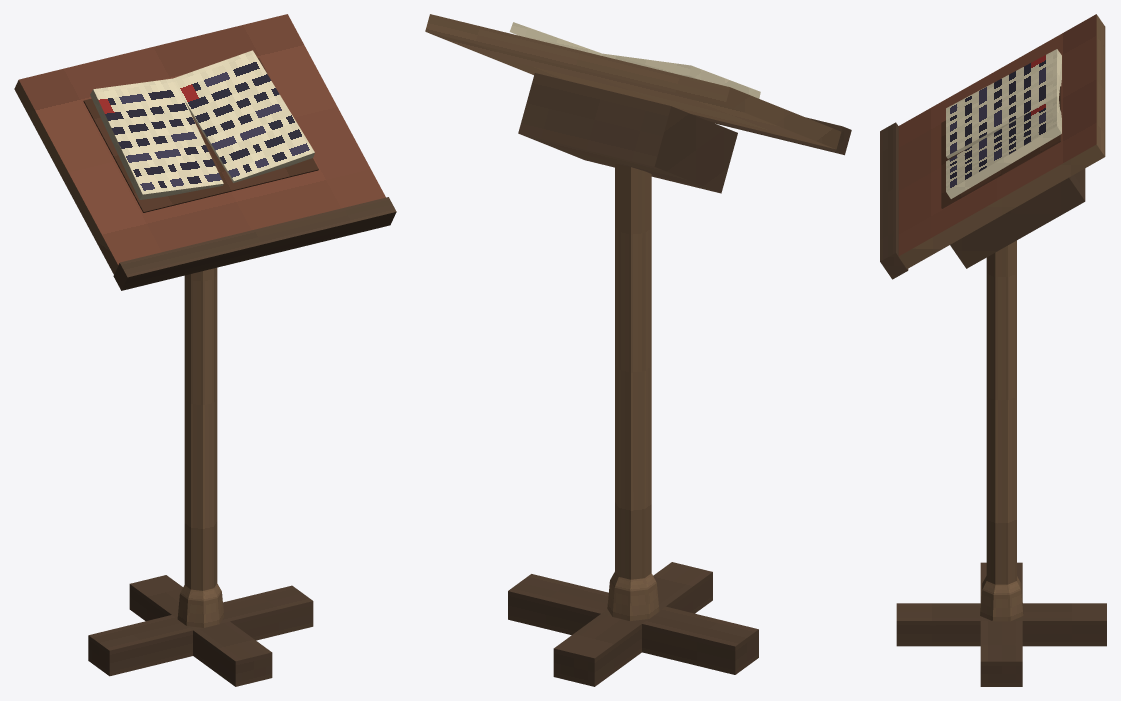
The model's file is lectern-slanted.glb.
3 views of the same model, side by side, from view 1: azimuth 30°, elevation 25°; view 2: azimuth 150°, elevation 25°; view 3: azimuth 270°, elevation 25° (orthographic). The views are drawn at different scales.
Visible parts, largest first — view 1: lectern-slanted.001; view 2: lectern-slanted.001; view 3: lectern-slanted.001.
Part boxes in pixels (x1,y1,x2,y2): lectern-slanted.001: (14,14,396,686); lectern-slanted.001: (425,14,851,686); lectern-slanted.001: (880,14,1106,686).
Size of the model in its own units: 0.66 by 1.32 by 0.4852.
1 material, 1 textured.
